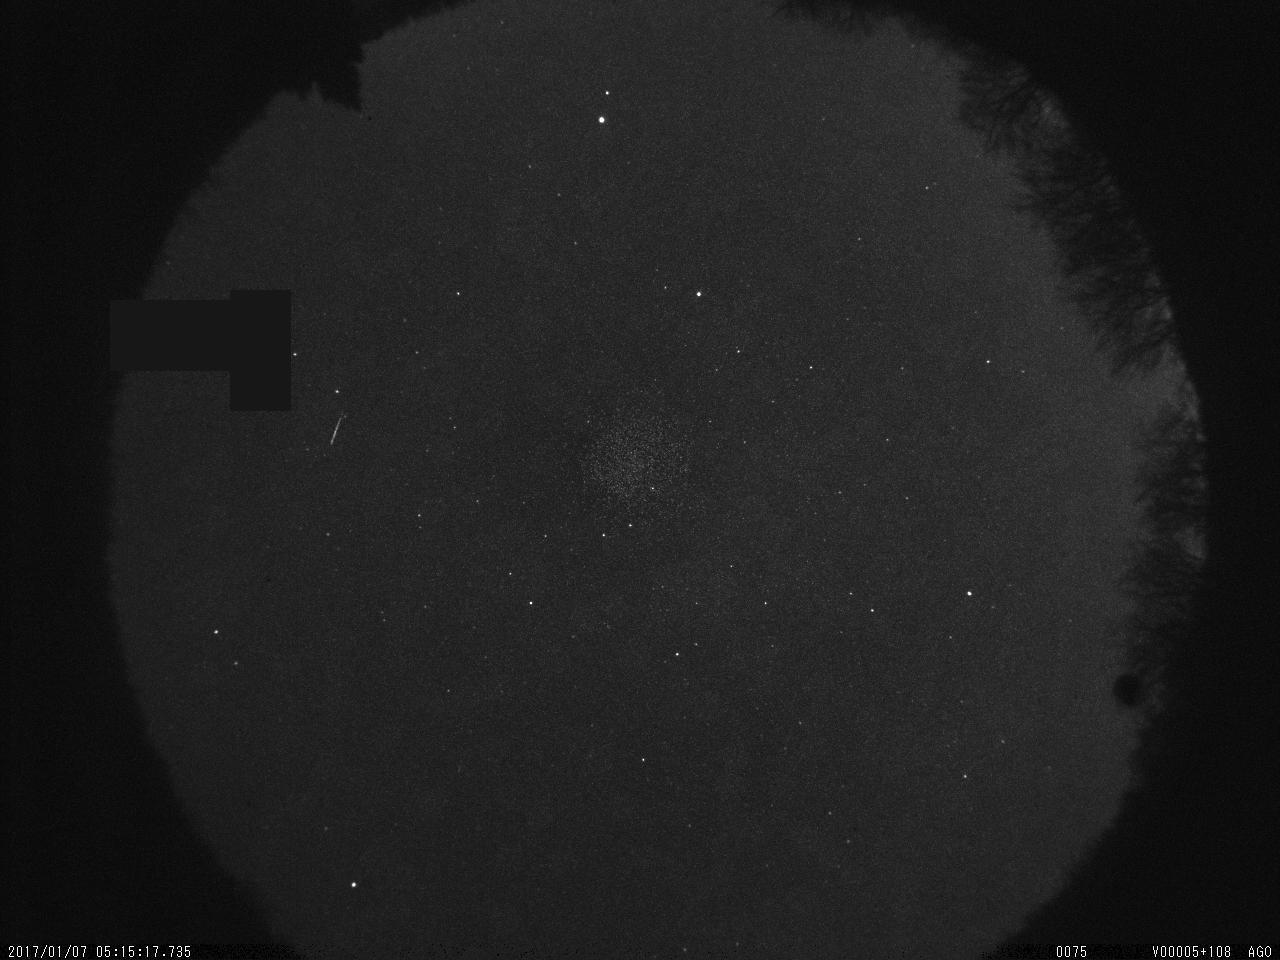meteor: (322, 401, 356, 464)
